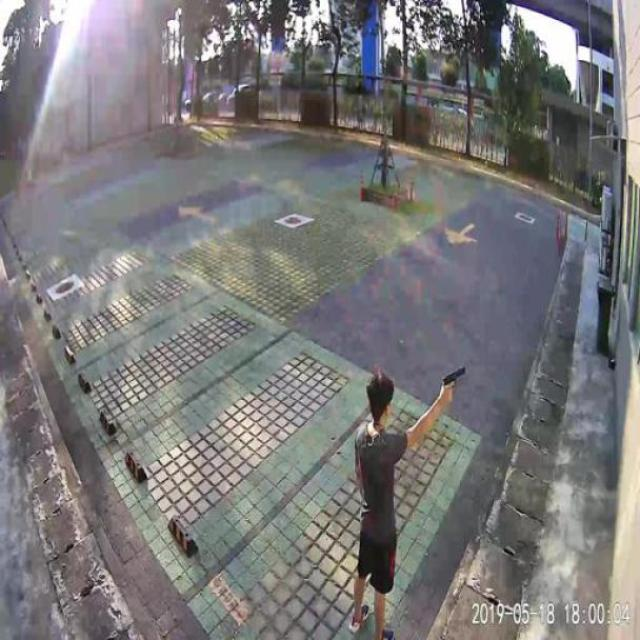Gun: (436, 357, 481, 406)
